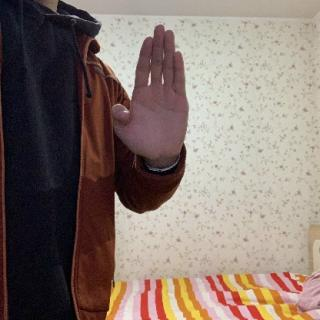KAAF: (109, 21, 192, 168)
